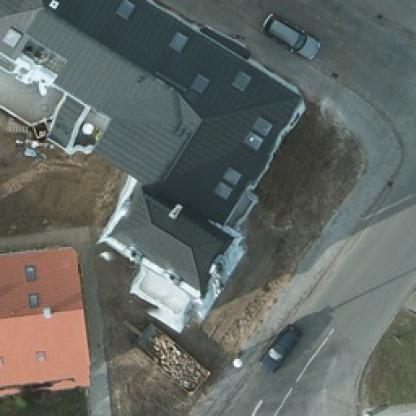car: (260, 13, 318, 60), (260, 320, 302, 366)
